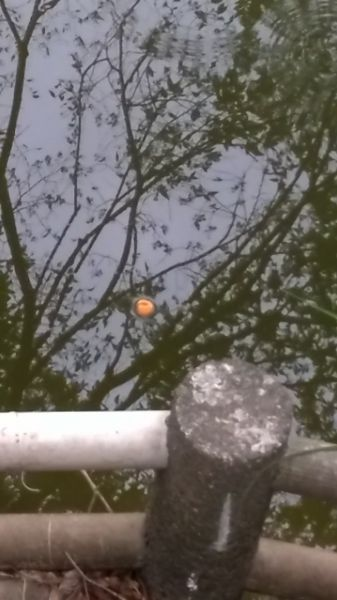eggs: (130, 294, 160, 320)
